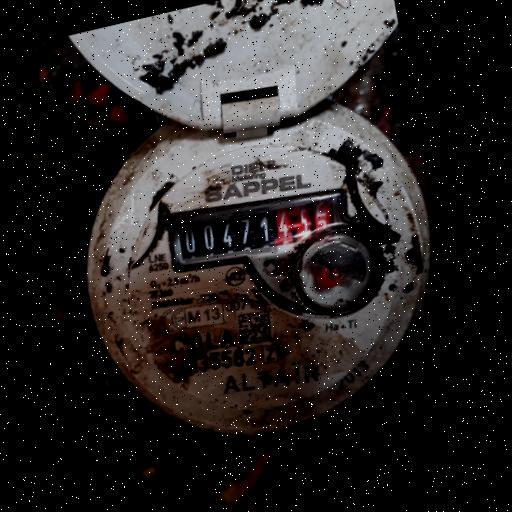0: (173, 220, 207, 261), (194, 218, 224, 259)
1: (249, 209, 280, 250)
2: (307, 198, 339, 237)
4: (268, 206, 301, 248), (212, 215, 243, 256)
5: (288, 202, 318, 243)
7: (231, 212, 262, 253)
border_water_meter_number: (157, 172, 361, 289)
